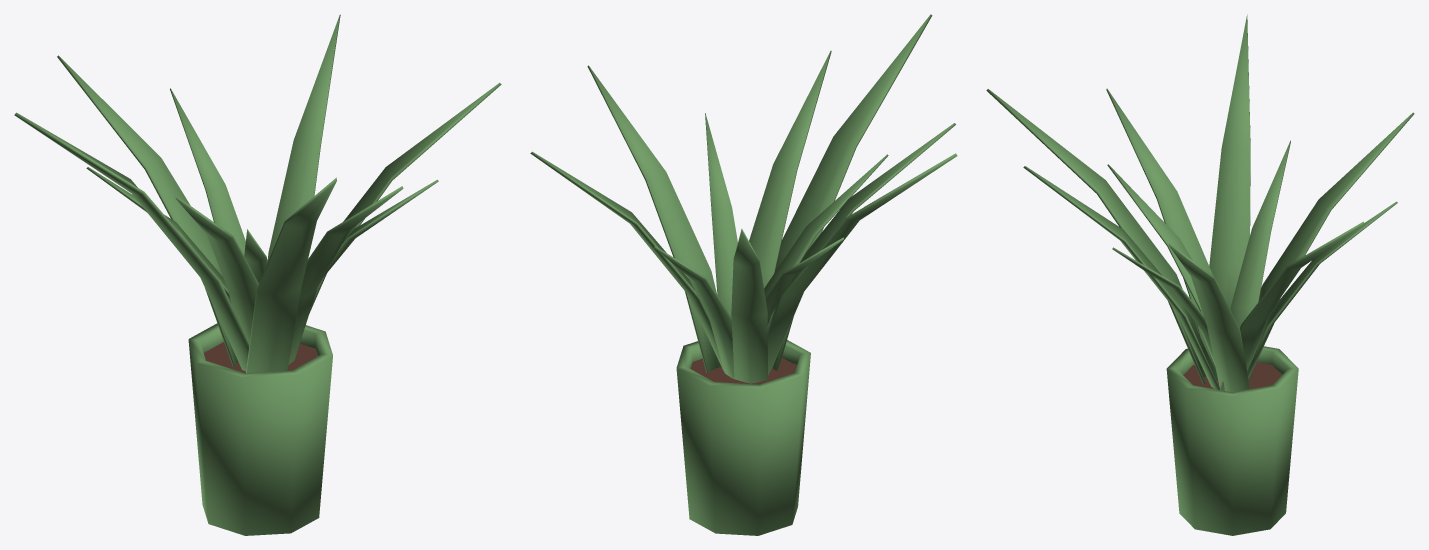
Rendered from Sofa Plant.fbx.
3 views of the same model, side by side, from view 1: azimuth 30°, elevation 25°; view 2: azimuth 150°, elevation 25°; view 3: azimuth 270°, elevation 25° (orthographic). The views are drawn at different scales.
Visible parts, largest first — view 1: Sofa Plant.001; view 2: Sofa Plant.001; view 3: Sofa Plant.001.
Part boxes in pixels (x1=…): Sofa Plant.001: x1=14, y1=14, x2=501, y2=535; Sofa Plant.001: x1=530, y1=14, x2=957, y2=535; Sofa Plant.001: x1=986, y1=14, x2=1414, y2=535.
Bounding box in the file's own units: 1.39 × 1.35 × 1.32.
